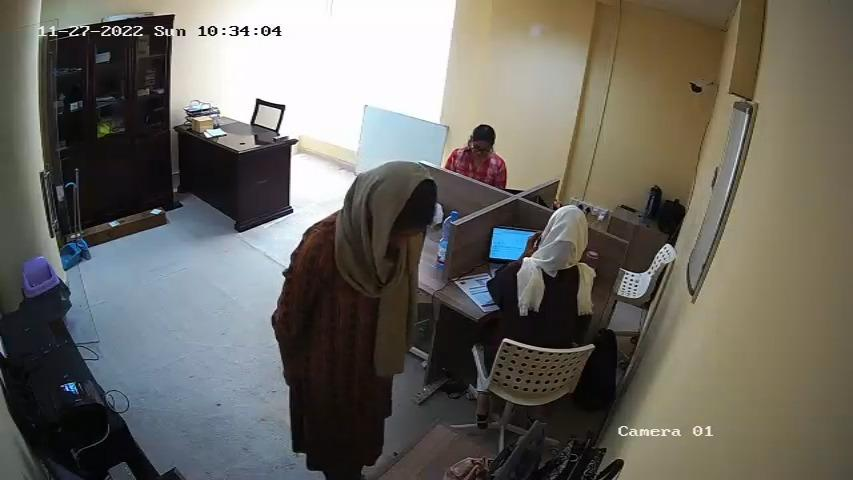no_apron: (300, 249, 404, 417)
